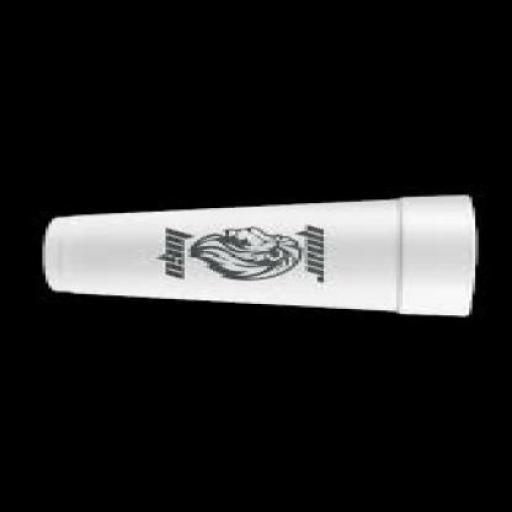paper: (44, 192, 480, 314)
